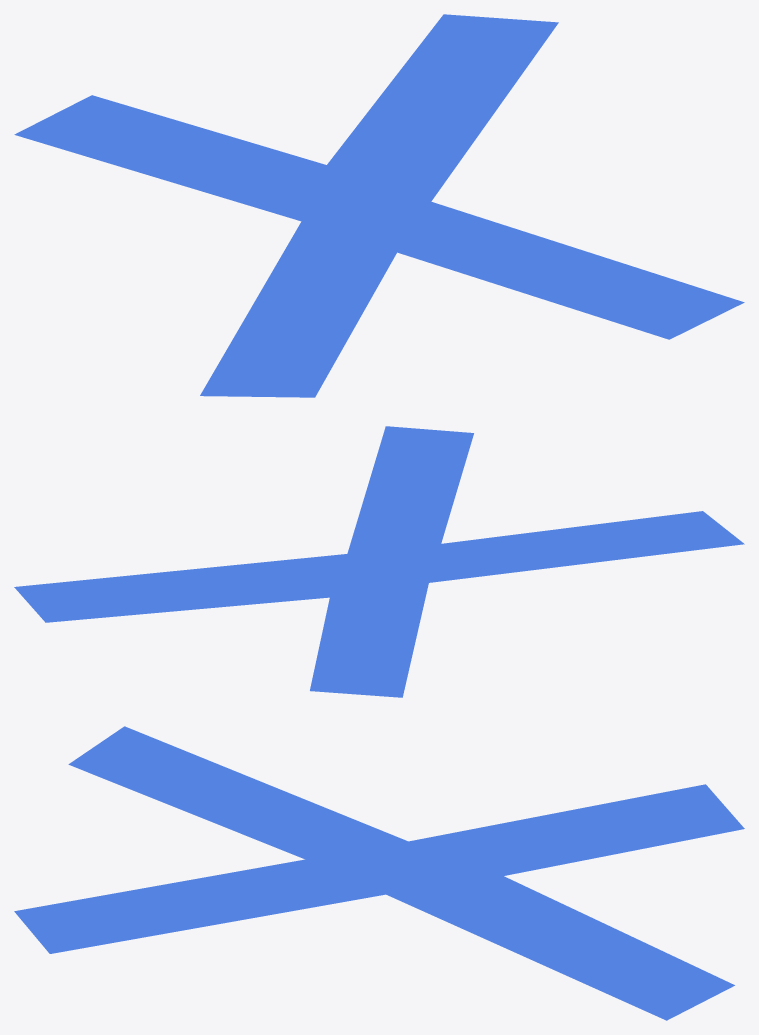
Rendered from cross.FBX.
3 views of the same model, one above another, from view 1: azimuth 30°, elevation 25°; view 2: azimuth 150°, elevation 25°; view 3: azimuth 270°, elevation 25° (orthographic). The views are drawn at different scales.
Visible parts, largest first — view 1: Text01; view 2: Text01; view 3: Text01.
Part boxes in pixels (bbox=[...]): Text01: bbox=[14, 14, 744, 397]; Text01: bbox=[14, 426, 744, 697]; Text01: bbox=[14, 726, 744, 1020].
Bounding box in the file's own units: 50.23 × 2.98e-08 × 52.69.
